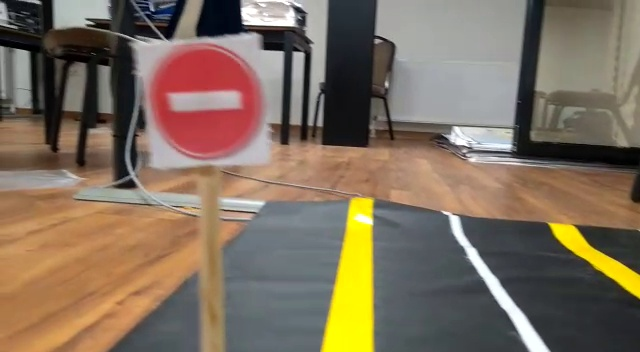girisi_olmayan_yol: (150, 41, 267, 163)
